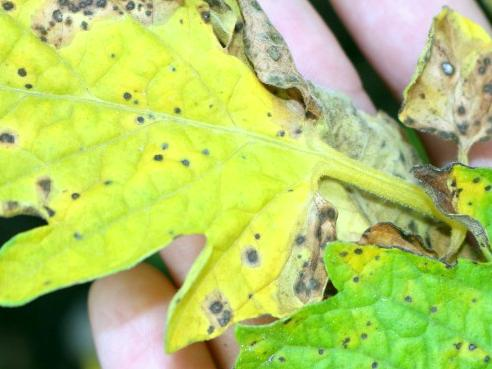Tomato Septoria leaf spot: (0, 0, 350, 314), (125, 174, 492, 369)
